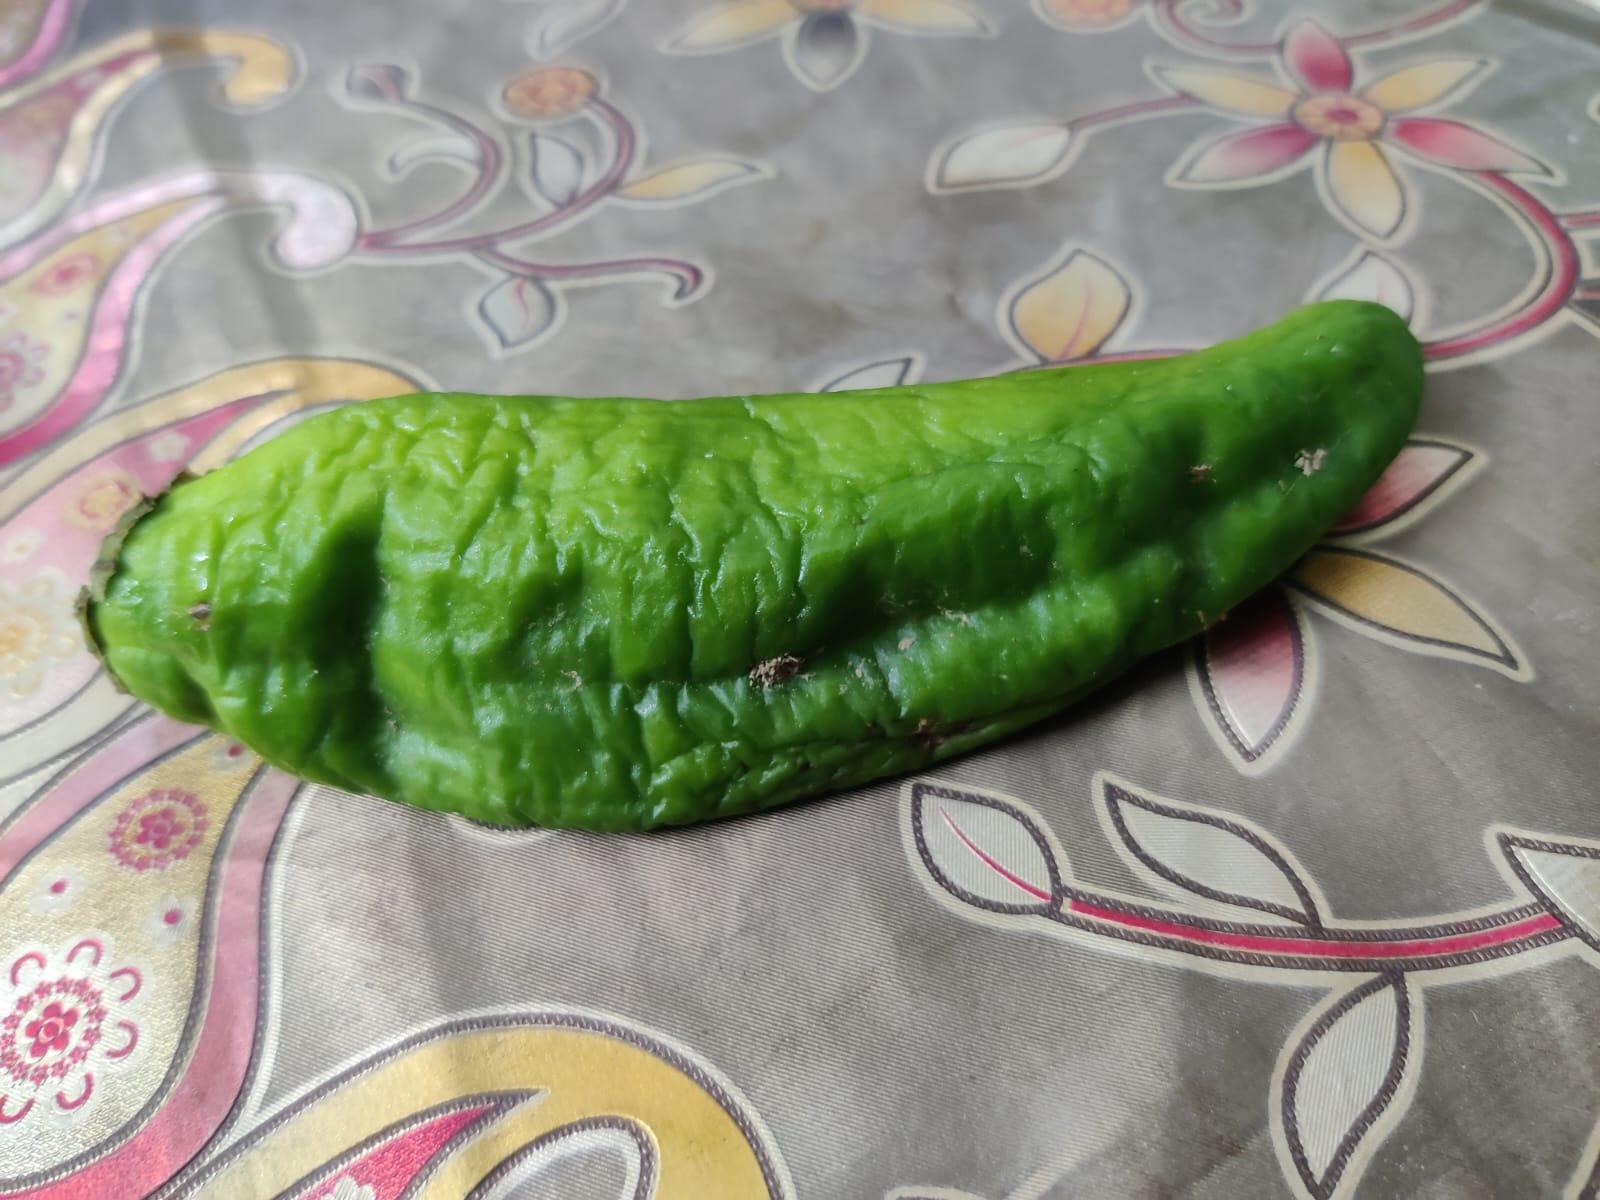non-mango: (63, 291, 1420, 834)
